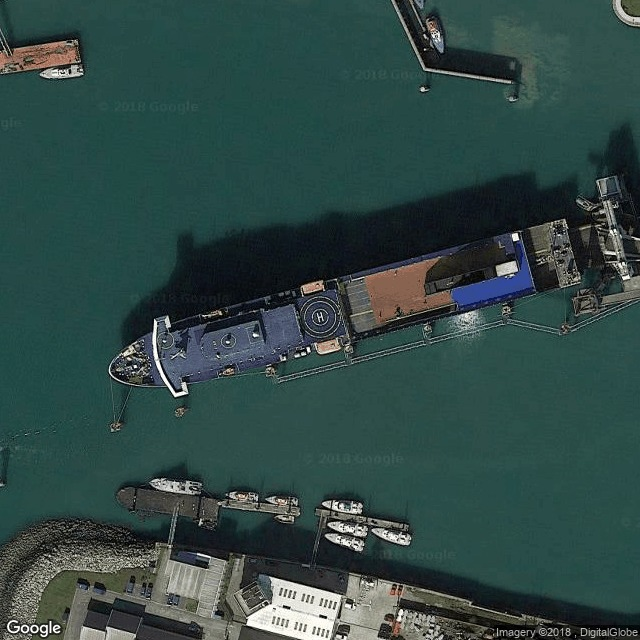heliport: (315, 311, 325, 322)
